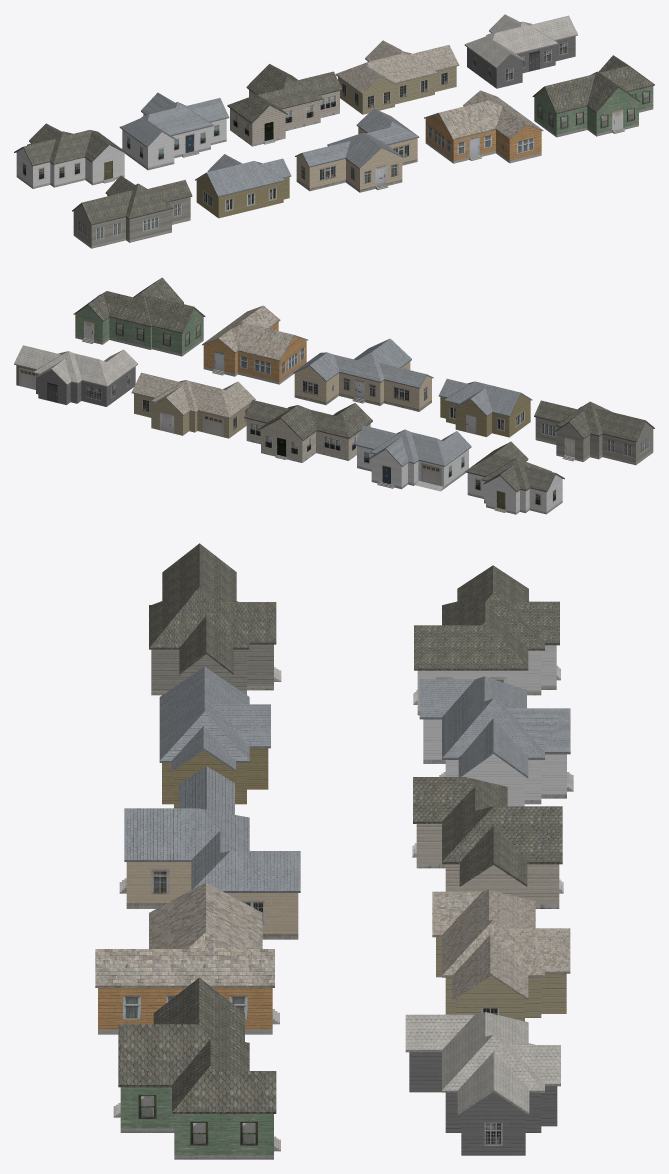
Rendered from PSX Houses Pack.fbx.
3 views of the same model, one above another, from view 1: azimuth 30°, elevation 25°; view 2: azimuth 150°, elevation 25°; view 3: azimuth 270°, elevation 25° (orthographic). The views are drawn at different scales.
Parts seen in each view (by area): view 1: House#5, House#1, House#6, House#2, House#4, House#7, House#9, House#8, House#10, House#3; view 2: House#5, House#1, House#9, House#6, House#7, House#4, House#8, House#2, House#10, House#3; view 3: House#5, House#2, House#1, House#8, House#6, House#7, House#9, House#4, House#10, House#3.
Boxes of the visible parts, left/top/right/bottom form: House#5: left=532, top=55, right=654, bottom=137; House#1: left=295, top=108, right=419, bottom=192; House#6: left=227, top=64, right=342, bottom=146; House#2: left=424, top=90, right=543, bottom=163; House#4: left=72, top=175, right=192, bottom=248; House#7: left=335, top=40, right=459, bottom=114; House#9: left=119, top=92, right=229, bottom=170; House#8: left=464, top=14, right=577, bottom=88; House#10: left=14, top=123, right=127, bottom=188; House#3: left=195, top=154, right=291, bottom=218; House#5: left=73, top=277, right=205, bottom=356; House#1: left=293, top=338, right=433, bottom=411; House#9: left=354, top=425, right=471, bottom=491; House#6: left=244, top=400, right=372, bottom=462; House#7: left=131, top=372, right=255, bottom=438; House#4: left=534, top=400, right=654, bottom=465; House#8: left=14, top=345, right=137, bottom=406; House#2: left=202, top=305, right=308, bottom=384; House#10: left=465, top=441, right=564, bottom=514; House#3: left=438, top=378, right=532, bottom=437; House#5: left=113, top=977, right=280, bottom=1159; House#2: left=95, top=882, right=279, bottom=1034; House#1: left=119, top=766, right=300, bottom=939; House#8: left=405, top=1012, right=560, bottom=1155; House#6: left=412, top=777, right=563, bottom=908; House#7: left=432, top=890, right=570, bottom=1021; House#9: left=419, top=676, right=573, bottom=806; House#4: left=149, top=543, right=281, bottom=695; House#10: left=413, top=565, right=560, bottom=715; House#3: left=159, top=666, right=270, bottom=808.
Bounding box in the file's own units: 5338 × 407 × 1998.
